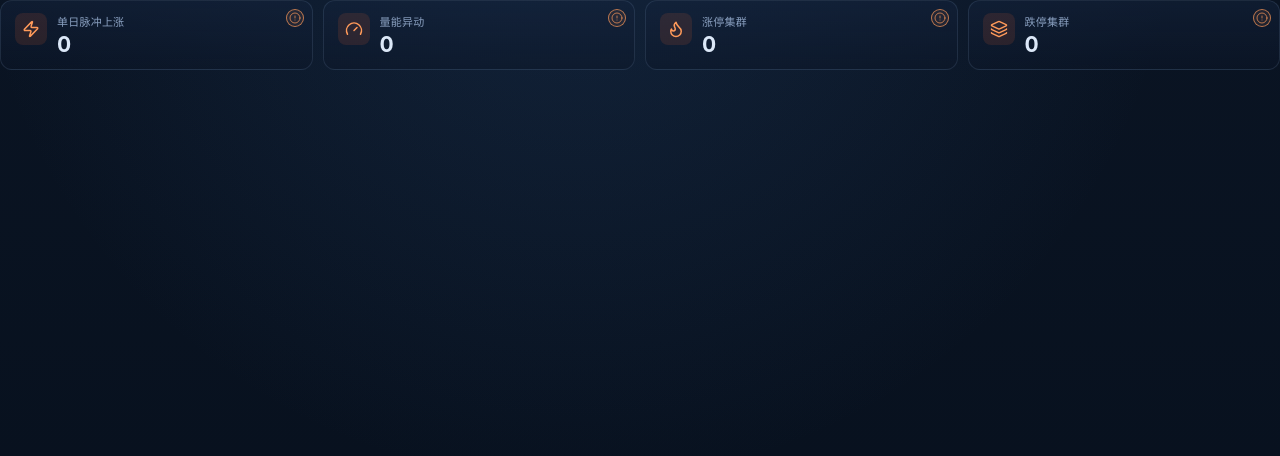
Test: ShortTermKpi › 悬停空列表时显示当日无符合阈值的板块
Hover over the text "涨停集群" at [801, 35], box [645, 0, 958, 70]
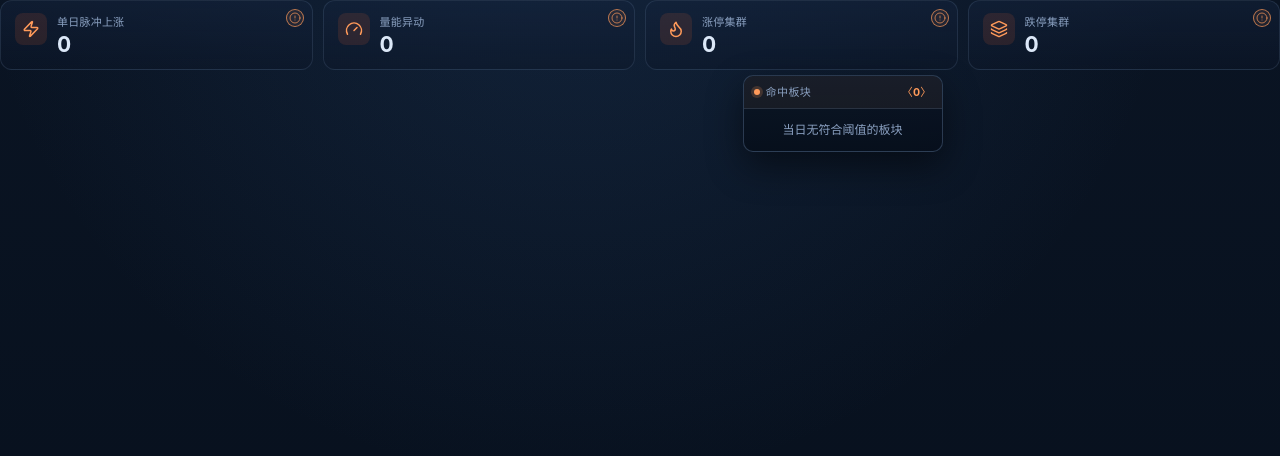
Check: the tooltip with class "kpi-sector-popover" is shown, box [742, 75, 942, 152]
Check: the text "当日无符合阈值的板块" is shown, box [782, 122, 902, 136]
